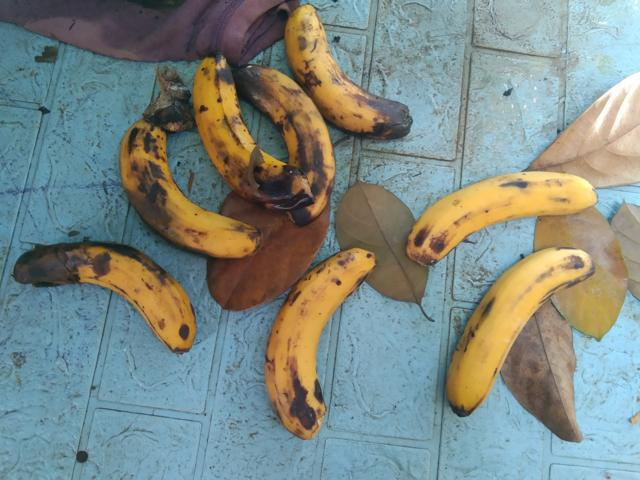overripe: (247, 242, 378, 448)
ripe: (432, 225, 598, 418), (384, 162, 610, 269)
rotten: (2, 222, 210, 362), (278, 0, 416, 147), (191, 50, 300, 228), (114, 115, 246, 252)
